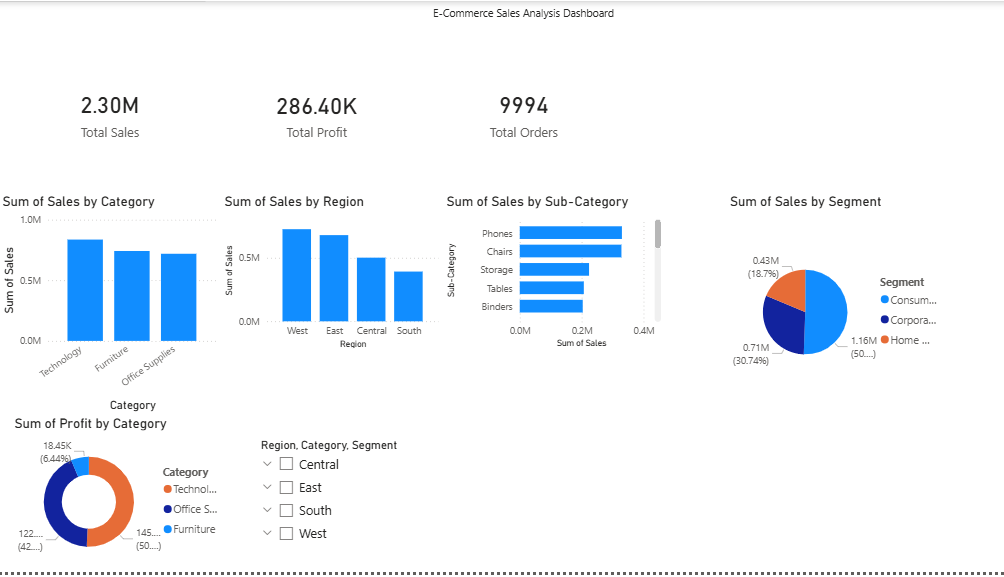

What the dashboard file says about the page in this screenshot:
{"tool":"powerbi","page":{"name":"Page 1","canvas":[1280,720],"ordinal":0},"visuals":[{"type":"card","fields":{"Values":["SampleSuperstore.Total Sales"]},"box":[10,0,280,280],"z":0},{"type":"card","fields":{"Values":["SampleSuperstore.Total Profit"]},"box":[270.7,0,279.7,281.6],"z":1000},{"type":"card","fields":{"Values":["SampleSuperstore.Total Orders"]},"box":[531,63.4,279.7,151.2],"z":2000},{"type":"clusteredColumnChart","fields":{"Category":["SampleSuperstore.Category"],"Y":["Sum(SampleSuperstore.Sales)"]},"box":[10,242.2,280,280],"z":3000},{"type":"clusteredColumnChart","fields":{"Category":["SampleSuperstore.Region"],"Y":["Sum(SampleSuperstore.Sales)"]},"box":[289.1,242.2,279.7,200.3],"z":4000},{"type":"clusteredBarChart","fields":{"Category":["SampleSuperstore.Sub-Category"],"Y":["Sum(SampleSuperstore.Sales)"]},"box":[569,242.2,280,200],"z":5000},{"type":"pieChart","fields":{"Category":["SampleSuperstore.Segment"],"Y":["Sum(SampleSuperstore.Sales)"]},"box":[926.7,242.2,280,280],"z":6000},{"type":"donutChart","fields":{"Category":["SampleSuperstore.Category"],"Y":["Sum(SampleSuperstore.Profit)"]},"box":[24.6,521.6,277.8,198.4],"z":7000},{"type":"slicer","fields":{"Values":["SampleSuperstore.Region","SampleSuperstore.Category","SampleSuperstore.Segment"]},"box":[326.9,546.1,281.6,151.2],"z":8000},{"type":"textbox","box":[468.9,0,404.4,60],"z":9000}]}

Visuals, with their boxes in screenshot pixels (x1, y1, x2, y2), scaled from the page's 1280x720 canvas onto the 1004x577 screenshot:
card - SampleSuperstore.Total Sales: pyautogui.locateOnScreen(8, 0, 227, 224)
card - SampleSuperstore.Total Profit: pyautogui.locateOnScreen(212, 0, 432, 226)
card - SampleSuperstore.Total Orders: pyautogui.locateOnScreen(417, 51, 636, 172)
clusteredColumnChart - SampleSuperstore.Category x Sum(SampleSuperstore.Sales): pyautogui.locateOnScreen(8, 194, 227, 418)
clusteredColumnChart - SampleSuperstore.Region x Sum(SampleSuperstore.Sales): pyautogui.locateOnScreen(227, 194, 446, 355)
clusteredBarChart - SampleSuperstore.Sub-Category x Sum(SampleSuperstore.Sales): pyautogui.locateOnScreen(446, 194, 666, 354)
pieChart - SampleSuperstore.Segment x Sum(SampleSuperstore.Sales): pyautogui.locateOnScreen(727, 194, 947, 418)
donutChart - SampleSuperstore.Category x Sum(SampleSuperstore.Profit): pyautogui.locateOnScreen(19, 418, 237, 576)
slicer - SampleSuperstore.Region x SampleSuperstore.Category: pyautogui.locateOnScreen(256, 438, 477, 559)
textbox: pyautogui.locateOnScreen(368, 0, 685, 48)
